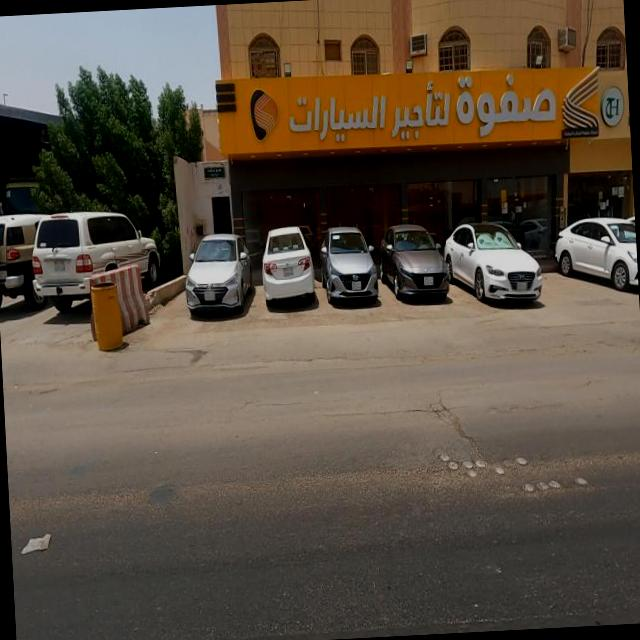debris: (10, 504, 86, 574)
